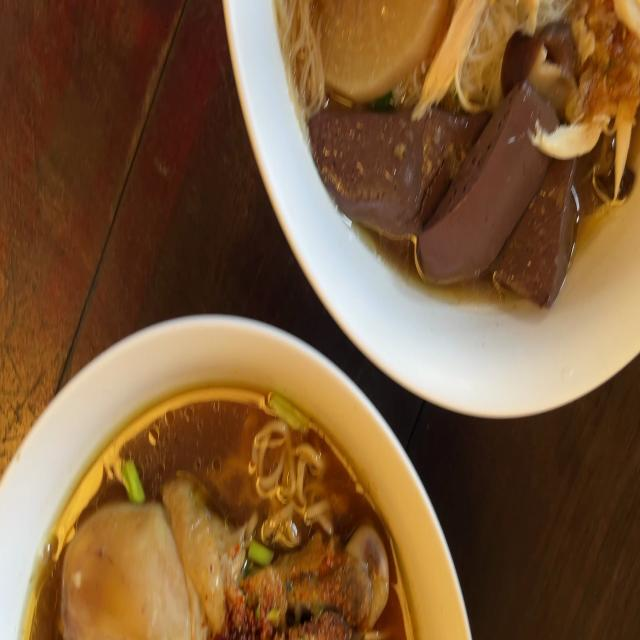boiled_chicken_blood_jelly: (306, 98, 572, 299)
chicken_drumstick: (57, 494, 392, 640)
chicken_shredded: (423, 0, 481, 112)
daikon_radish: (308, 0, 439, 97)
noodle: (250, 0, 640, 324), (23, 382, 407, 640)
